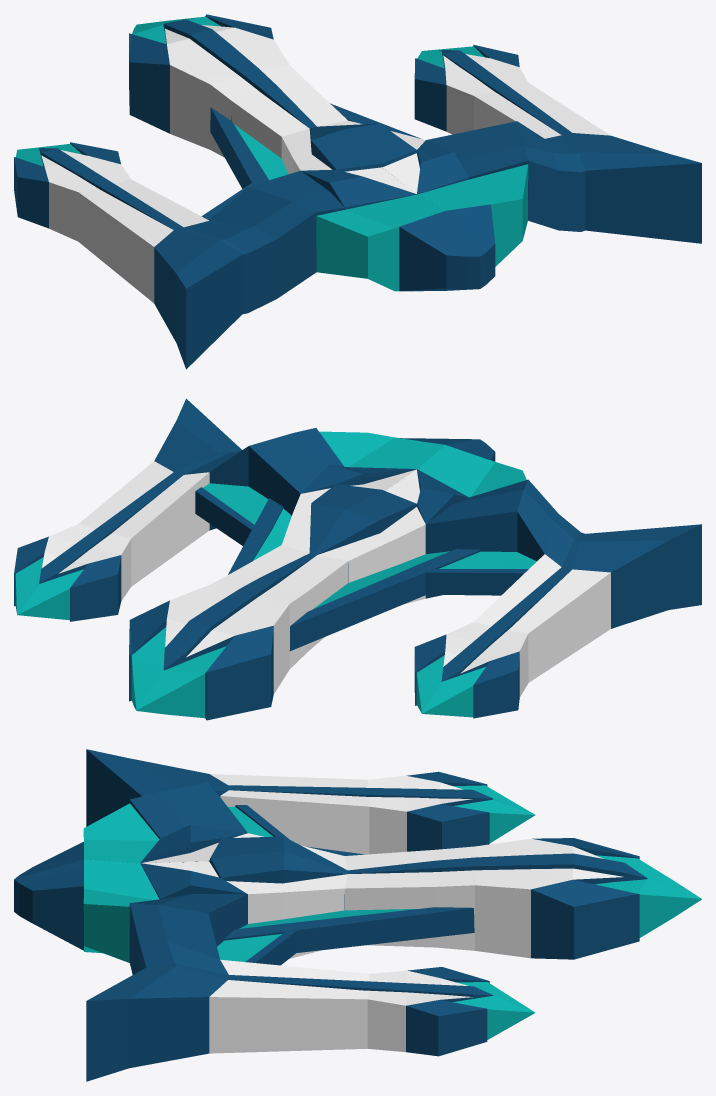
The picture shows the model from 3 angles, top to bottom: view 1: azimuth 30°, elevation 25°; view 2: azimuth 150°, elevation 25°; view 3: azimuth 270°, elevation 25°; orthographic projection.
Parts seen in each view (by area): view 1: Neptuno_5; view 2: Neptuno_5; view 3: Neptuno_5.
Boxes of the visible parts, x1,y1,x2,y2 form: Neptuno_5: (14, 14, 701, 369); Neptuno_5: (14, 398, 701, 720); Neptuno_5: (14, 749, 701, 1081).
Size of the model in its own units: 441 by 88.35 by 509.
